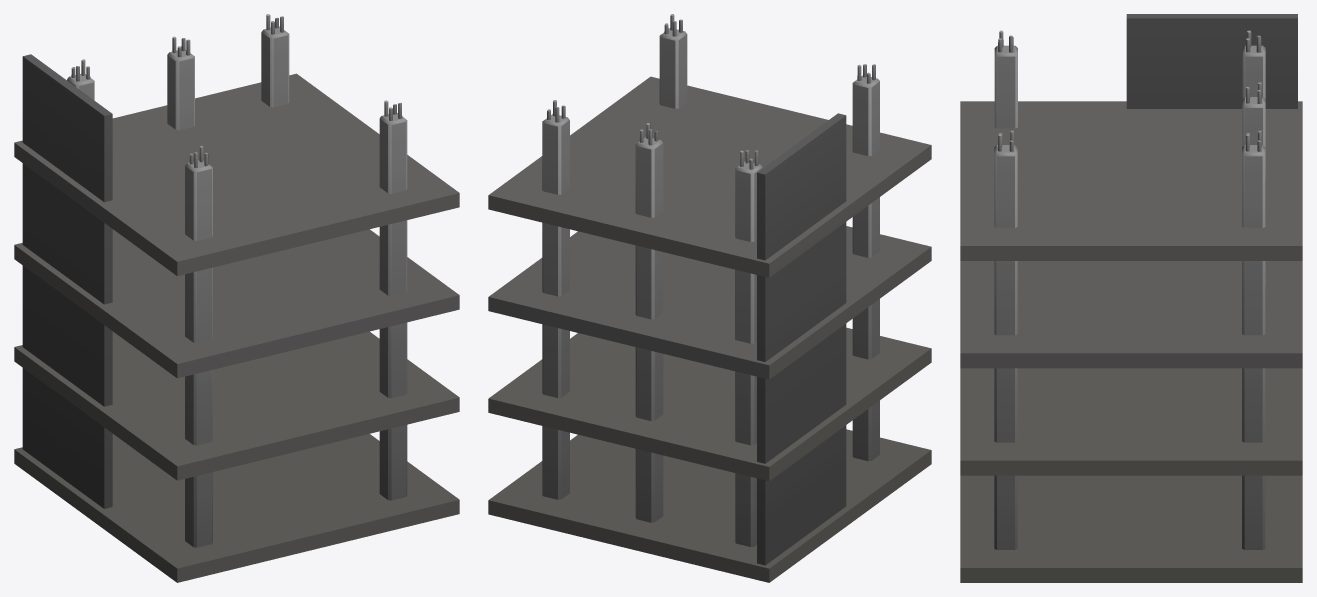
File: cBuilding_2_1.fbx
3 renders of one model, left to right at view 1: azimuth 30°, elevation 25°; view 2: azimuth 150°, elevation 25°; view 3: azimuth 270°, elevation 25°, orthographic. The views are drawn at different scales.
Parts seen in each view (by area): view 1: cBuilding_2_1; view 2: cBuilding_2_1; view 3: cBuilding_2_1.
Boxes of the visible parts, x1=… form: cBuilding_2_1: x1=14, y1=14, x2=459, y2=582; cBuilding_2_1: x1=488, y1=14, x2=931, y2=582; cBuilding_2_1: x1=960, y1=14, x2=1302, y2=582.
Bounding box in the file's own units: 817 × 1126 × 817.
